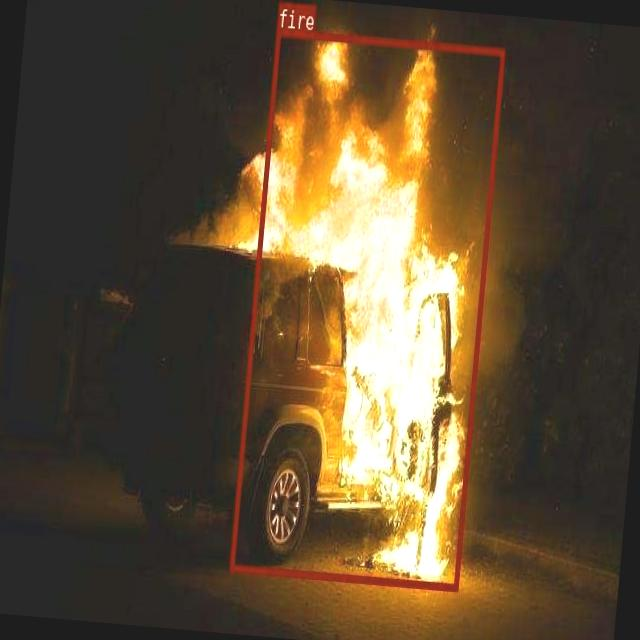fire: (227, 27, 503, 590)
